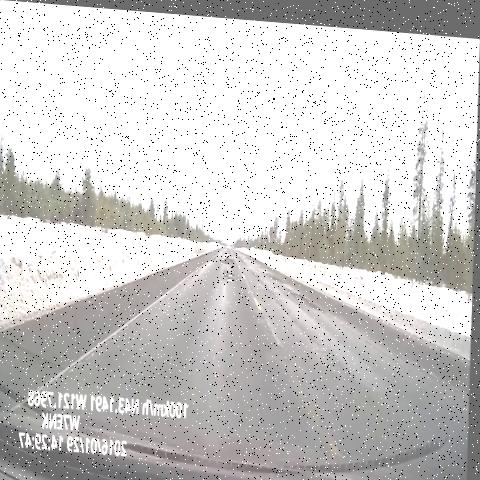pothole: (288, 282, 322, 313), (264, 257, 292, 287), (220, 243, 241, 266), (220, 263, 241, 284), (210, 248, 221, 265)
